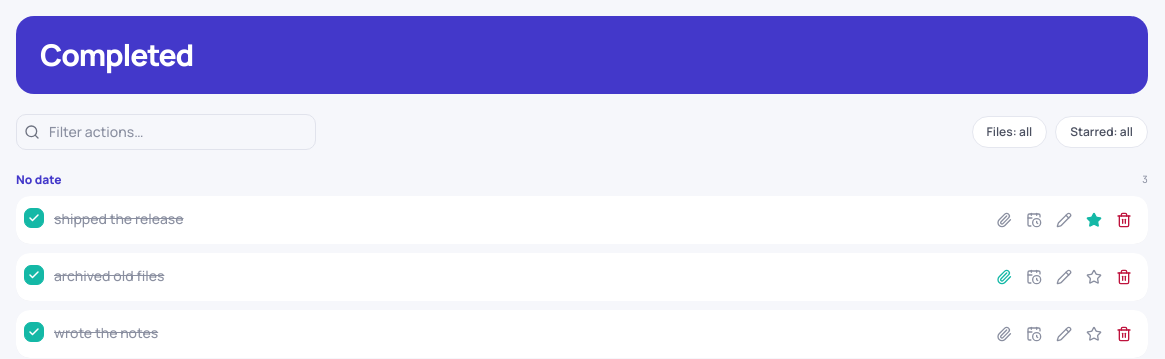
Scenario: done archive filters › filters to actions that have files
Expected: the button "archived old files" is shown, [54, 266, 164, 284]
Click the button "Files: all" at {"x": 1009, "y": 132}, box [972, 116, 1047, 148]
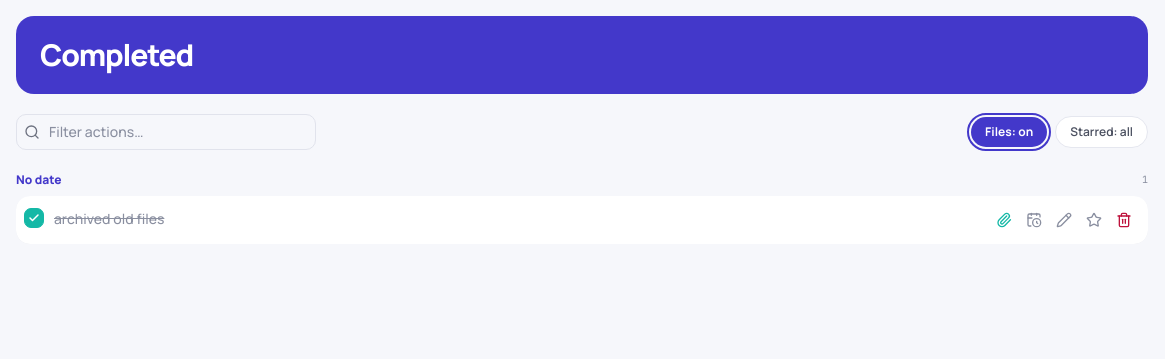
Expected: the button "archived old files" is shown, [54, 208, 164, 228]
Result: the button "shipped the release" is gone
